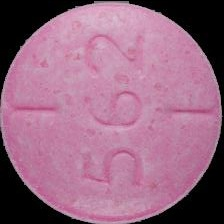66336-337: (0, 0, 224, 224)
